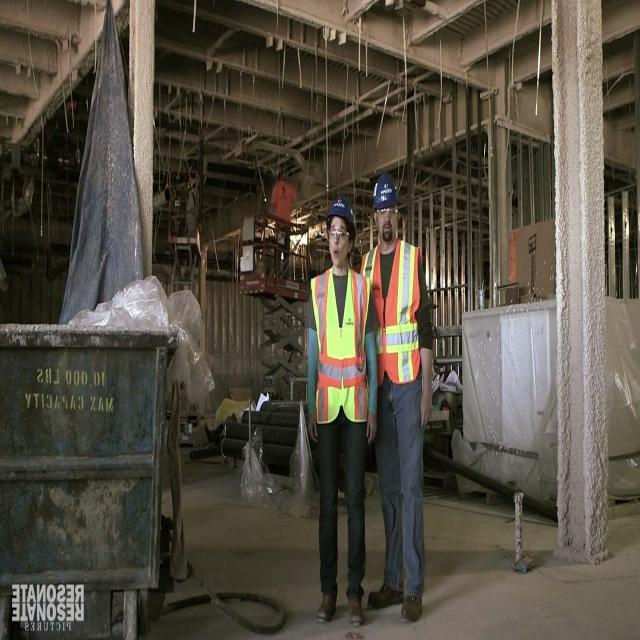Reflective-Jacket: (305, 262, 373, 433), (360, 238, 432, 396)
Safety-Helmet: (366, 166, 404, 220), (321, 188, 359, 238)
